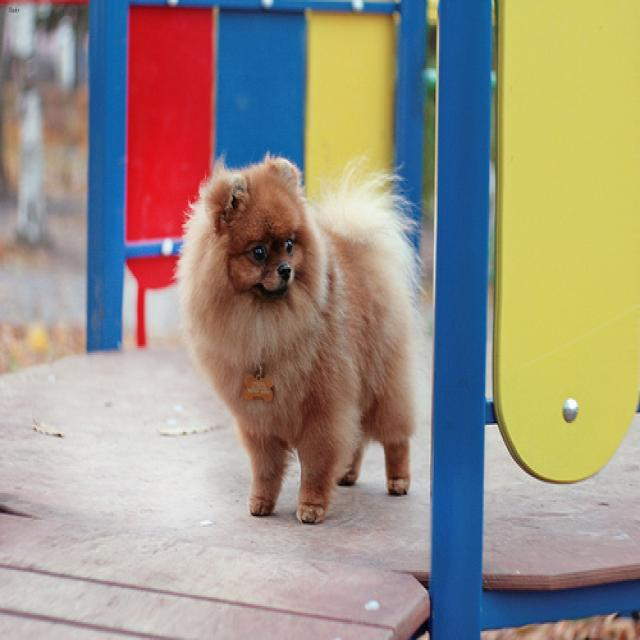dog-pomeranian: (169, 145, 428, 534)
